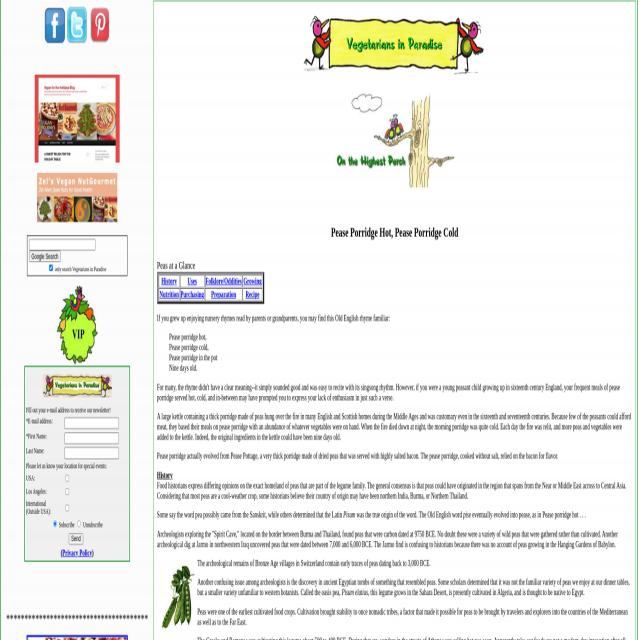button: (304, 15, 486, 80), (334, 94, 455, 190), (34, 77, 120, 165), (37, 175, 117, 225), (56, 287, 98, 368), (42, 377, 112, 400), (44, 8, 66, 46), (66, 8, 88, 46), (89, 8, 110, 46), (29, 253, 61, 265), (69, 533, 83, 544)
field: (29, 241, 95, 253), (64, 420, 120, 432), (64, 435, 120, 446), (64, 450, 120, 461), (53, 520, 74, 528), (78, 522, 103, 528), (66, 505, 69, 512), (66, 475, 69, 481), (66, 488, 69, 494)
